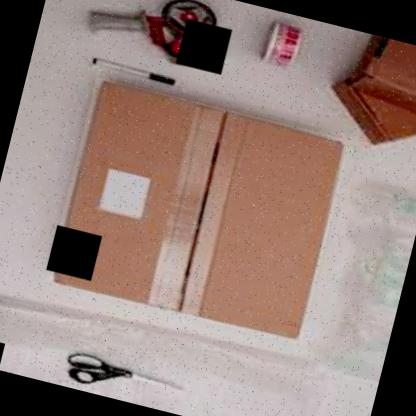box: (46, 78, 352, 346)
